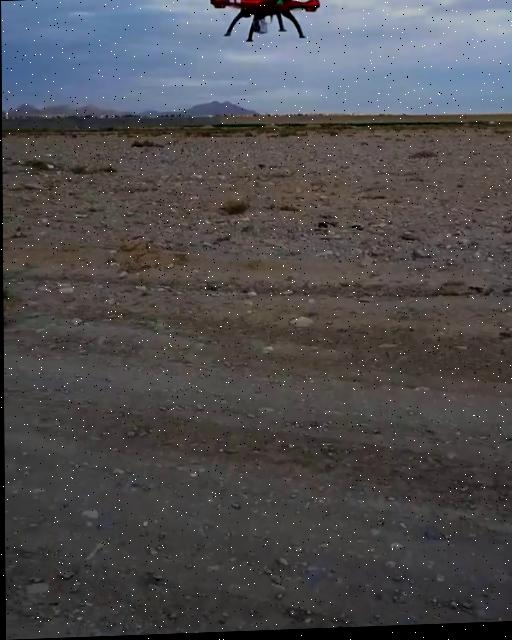drone: (205, 0, 321, 46)
